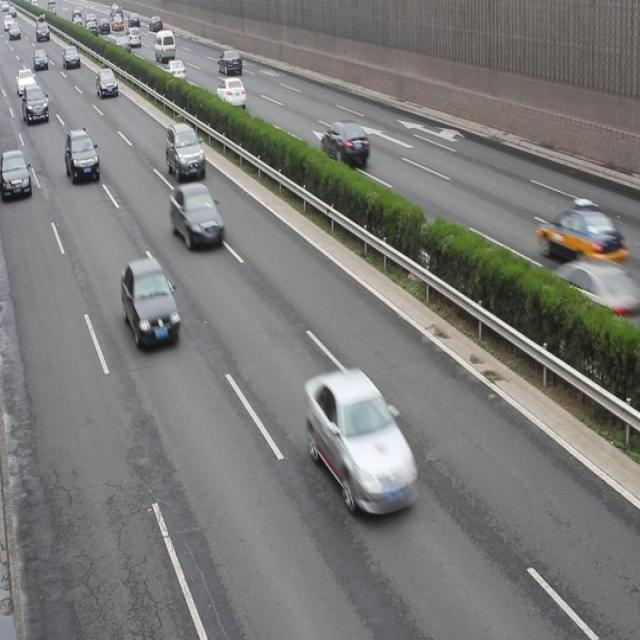car: (304, 366, 418, 518), (544, 259, 628, 332), (537, 204, 619, 271), (120, 257, 178, 350), (170, 183, 225, 252), (320, 119, 368, 170), (165, 121, 204, 180), (66, 127, 100, 184), (1, 148, 32, 203), (216, 76, 246, 112)
